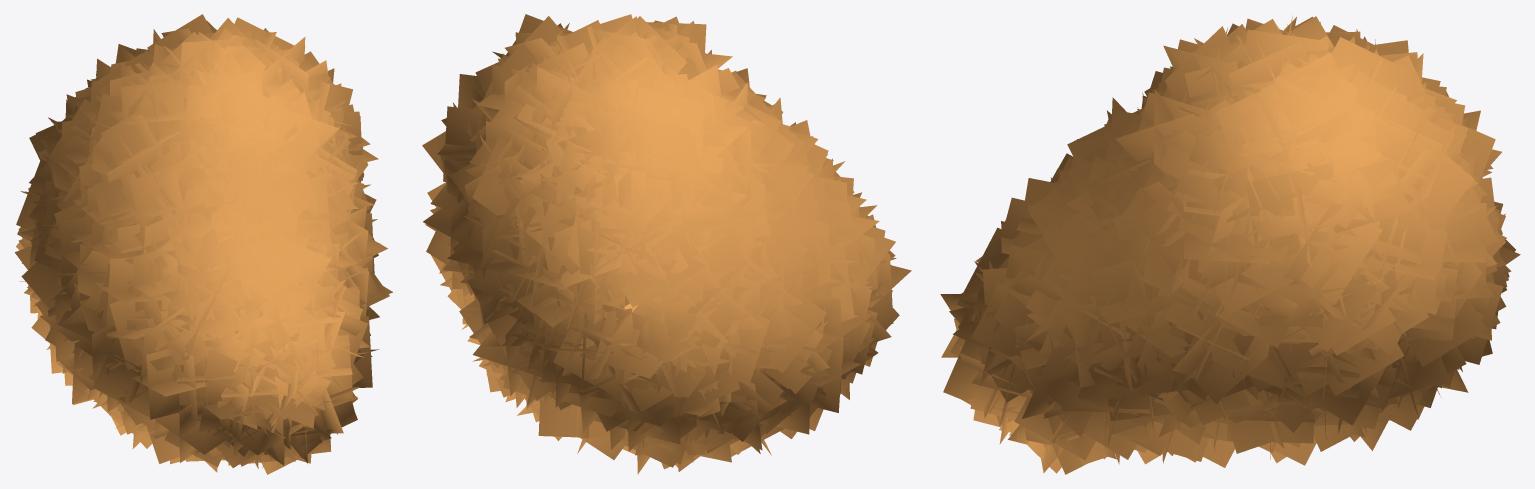
File: LeavesTestLOD.fbx
The picture shows the model from 3 angles, left to right: view 1: azimuth 30°, elevation 25°; view 2: azimuth 150°, elevation 25°; view 3: azimuth 270°, elevation 25°; orthographic projection. The views are drawn at different scales.
Parts seen in each view (by area): view 1: Leaves01_LOD0; view 2: Leaves01_LOD0; view 3: Leaves01_LOD0.
Boxes of the visible parts, x1,y1,x2,y2 form: Leaves01_LOD0: (15,14,392,474); Leaves01_LOD0: (422,14,911,474); Leaves01_LOD0: (940,16,1520,474).
Size of what is drawn, in the model's own units: 341 by 361 by 422.
